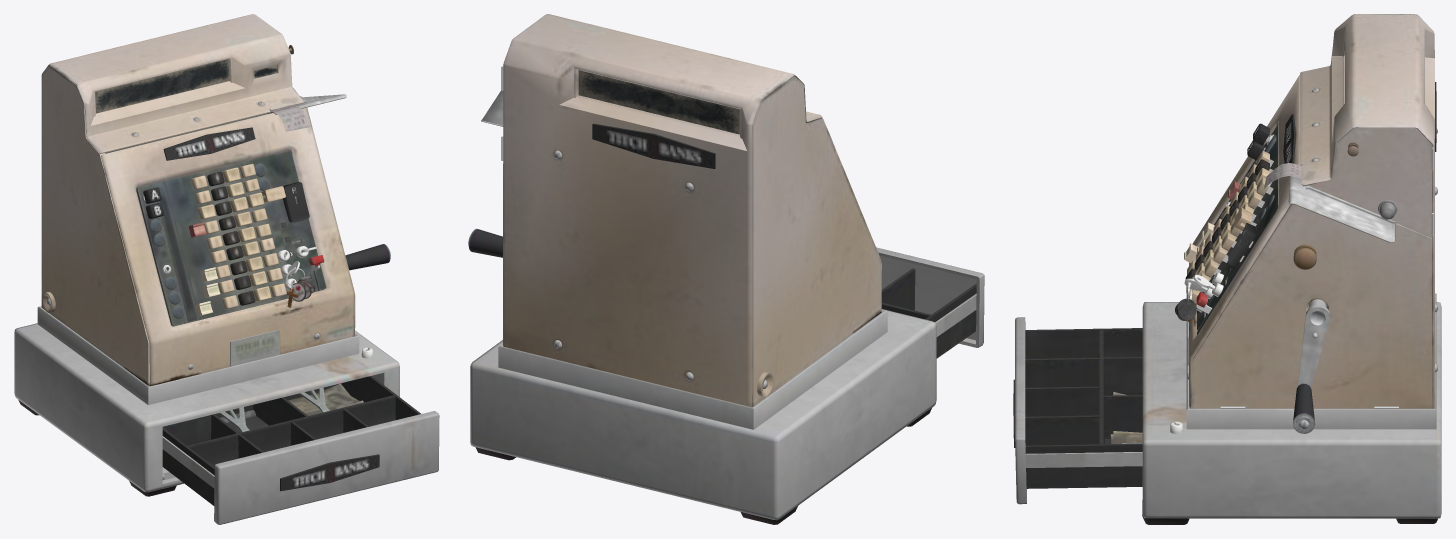
Rendered from real-register.glb.
3 renders of one model, left to right at view 1: azimuth 30°, elevation 25°; view 2: azimuth 150°, elevation 25°; view 3: azimuth 270°, elevation 25°, orthographic. The views are drawn at different scales.
Parts seen in each view (by area): view 1: CashRegister_01_body, CashRegister_011_drawer; view 2: CashRegister_01_body, CashRegister_011_drawer; view 3: CashRegister_01_body, CashRegister_011_drawer.
Part boxes in pixels (bbox=[...]): CashRegister_01_body: bbox=[14, 14, 399, 496]; CashRegister_011_drawer: bbox=[162, 376, 439, 524]; CashRegister_01_body: bbox=[468, 14, 936, 524]; CashRegister_011_drawer: bbox=[876, 247, 984, 358]; CashRegister_01_body: bbox=[1142, 14, 1441, 524]; CashRegister_011_drawer: bbox=[1013, 317, 1142, 504].
Bounding box in the file's own units: 0.6005 × 0.6214 × 0.6242.
Materials: 2 (2 with a texture image).
